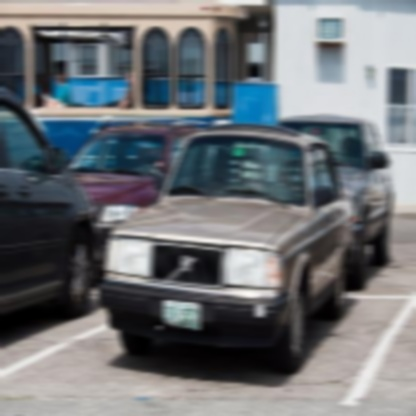Vehicle: (96, 120, 355, 385)
